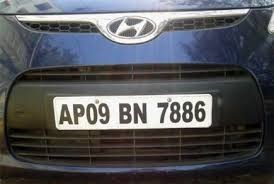licenseplate: (50, 93, 216, 133)
